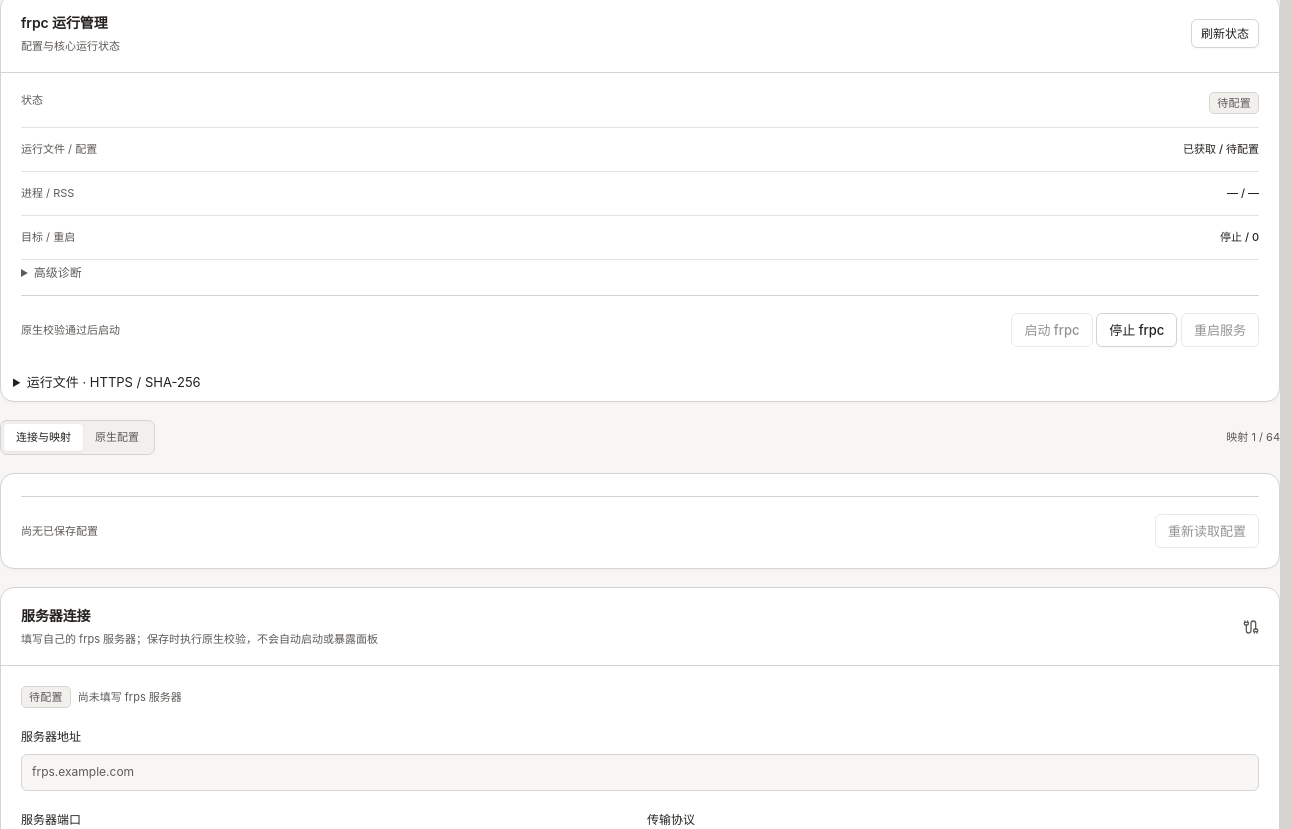
Test case: FrpcPage runtime configuration › saves generated native TOML with current generation and clears token only after success
In the field labelled "服务器地址": (640, 772) [21,754,1259,791], type "frps.example.test"
(page scrolled)
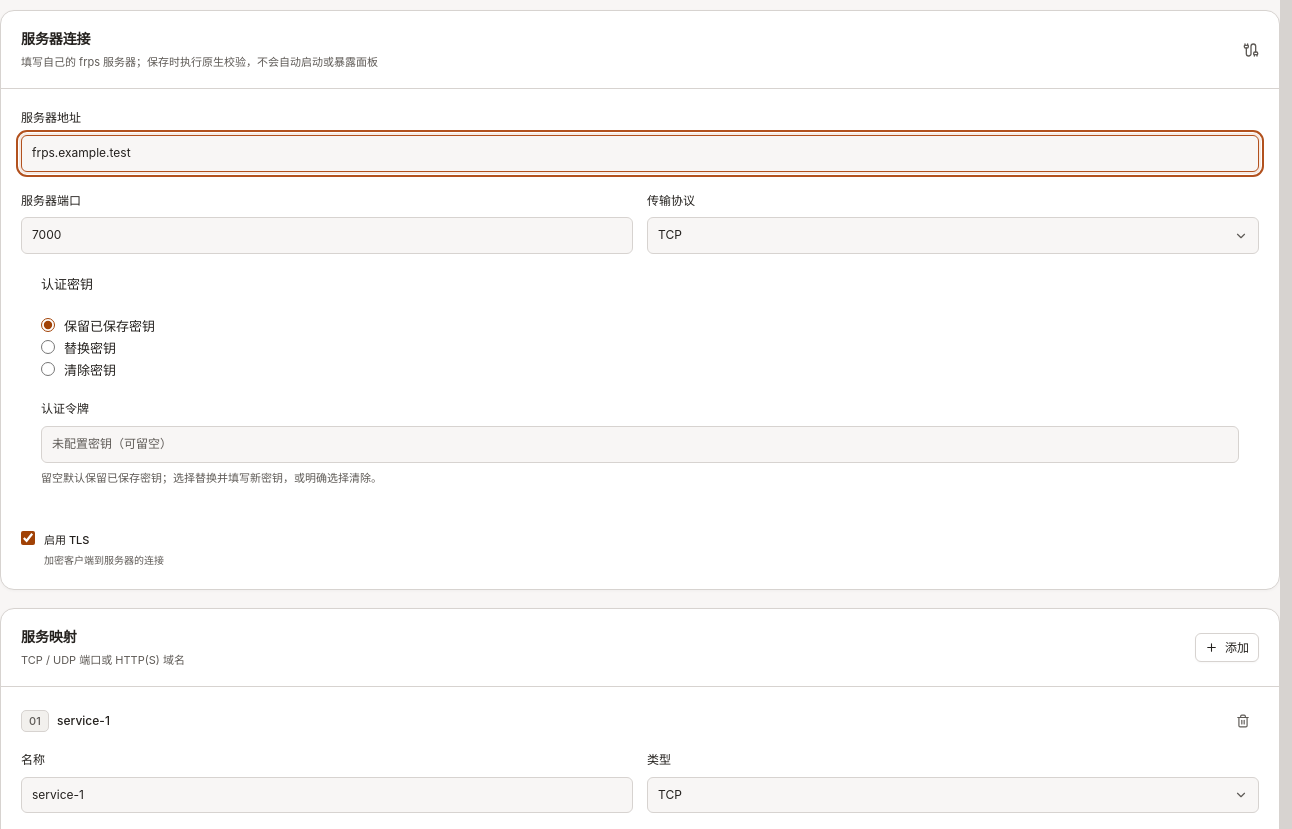
In the password field labelled "认证令牌": (640, 444) [41,426,1239,463], type "synthetic\"\\token"
(page scrolled)
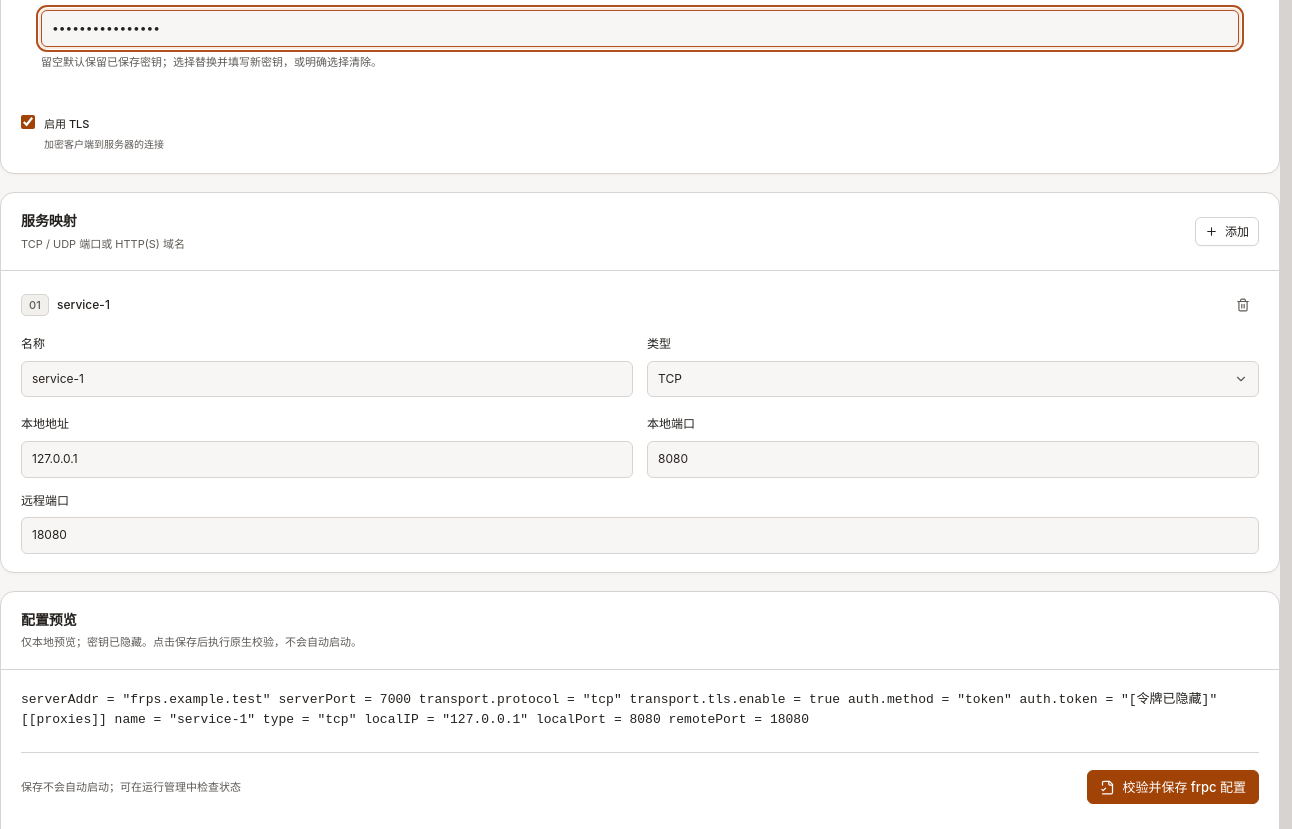
Now the button "校验并保存 frpc 配置" is enabled
Click the button "校验并保存 frpc 配置": (1173, 787) [1087,770,1259,804]
(page scrolled)
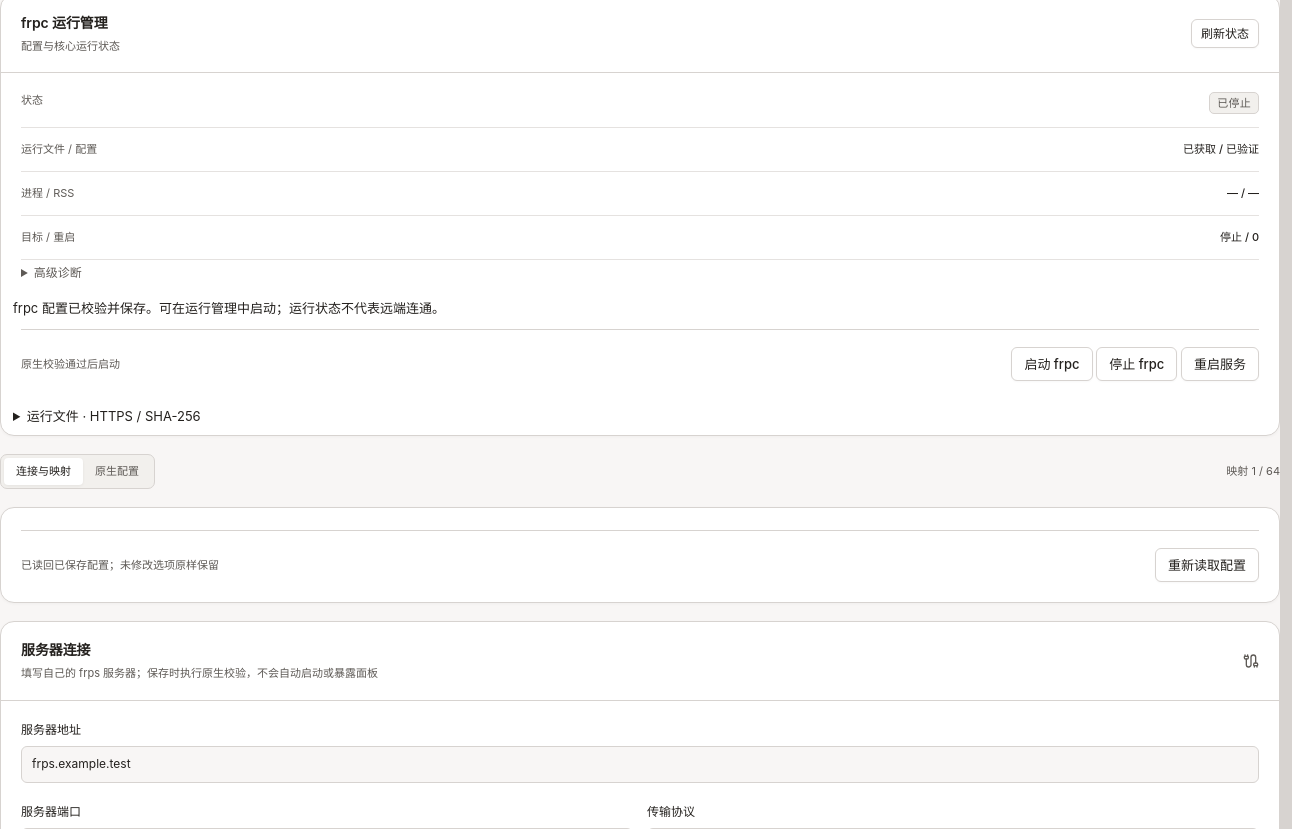
Now the text "frpc 配置已校验并保存。可在运行管理中启动；运行状态不代表远端连通。" is shown, box [13,300,445,316]
Now the button "启动 frpc" is enabled, box [1011,347,1092,381]
